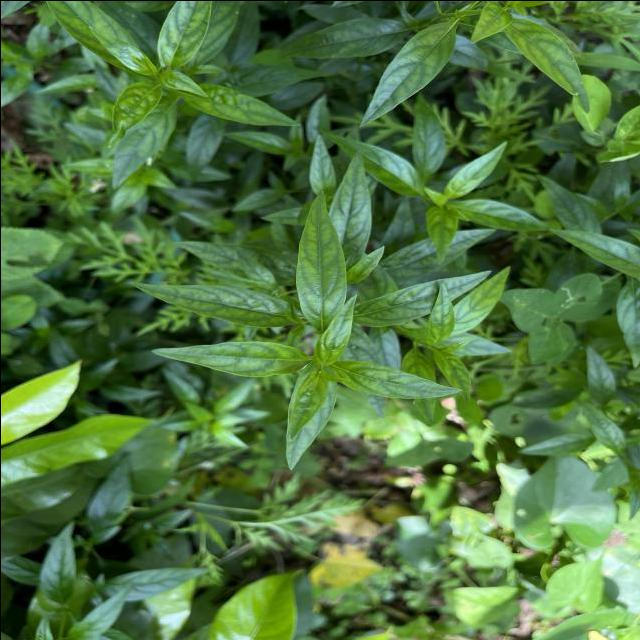Andrographis paniculata: (354, 19, 464, 128), (351, 268, 492, 328), (128, 278, 296, 328), (316, 128, 426, 200), (295, 188, 348, 329), (147, 339, 309, 379), (280, 369, 338, 471), (329, 360, 460, 401), (180, 82, 302, 126), (330, 147, 374, 266), (446, 264, 512, 333), (105, 78, 163, 148), (442, 138, 507, 198), (450, 197, 552, 234), (314, 289, 356, 364), (423, 282, 454, 344)
